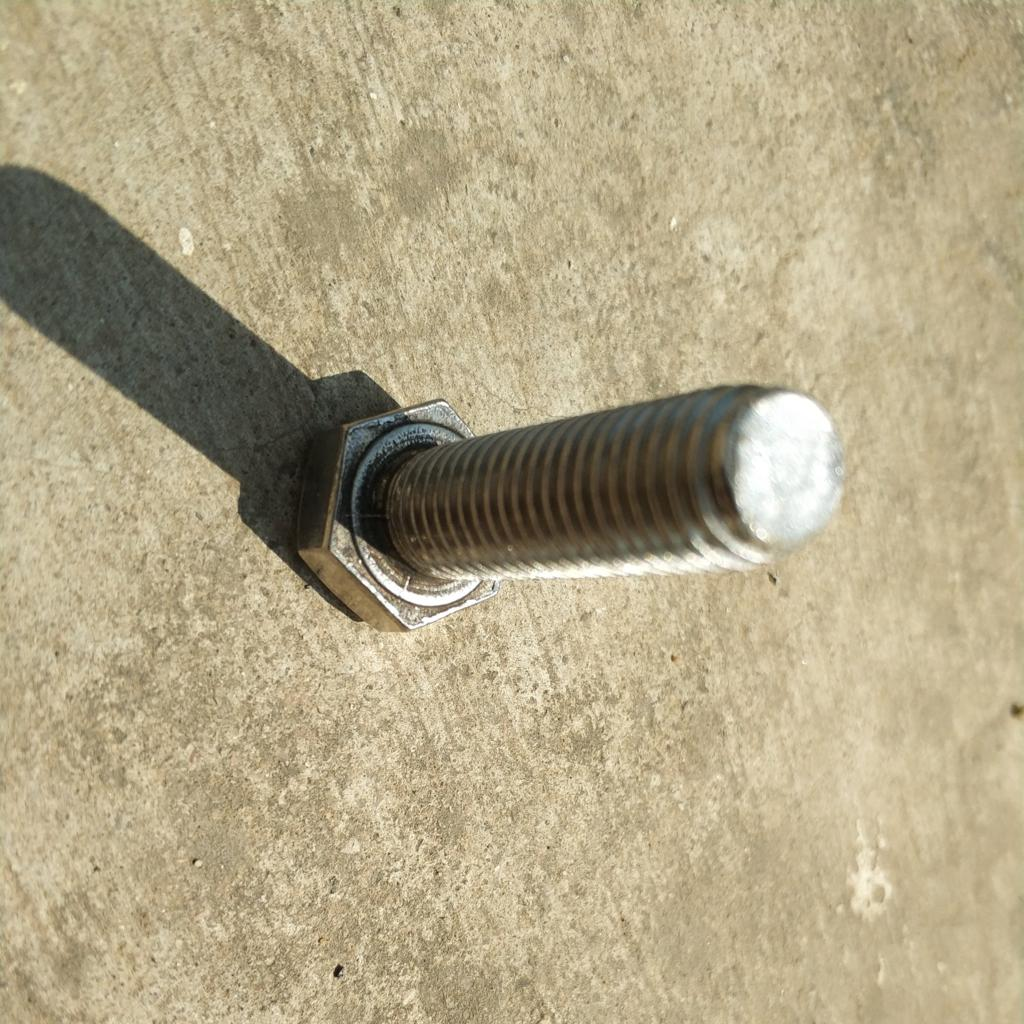screwtype2silver: (293, 377, 855, 658)
